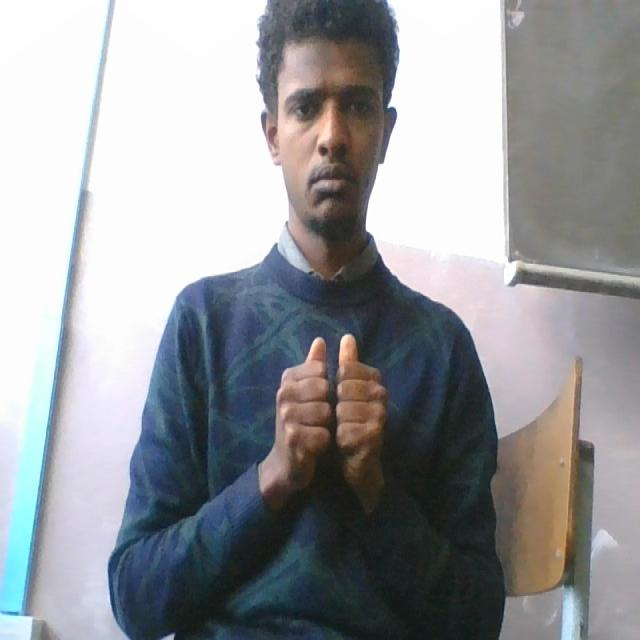dabo: (273, 328, 391, 502)
